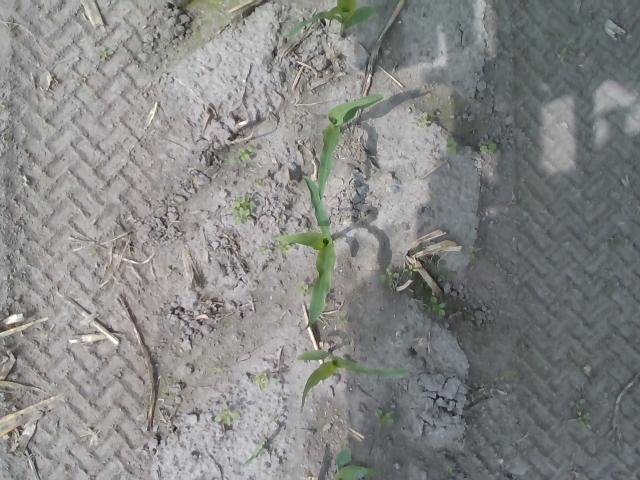Maize: (271, 173, 337, 329), (296, 348, 411, 412), (317, 94, 384, 200), (286, 0, 376, 40), (334, 446, 374, 480)
Weeds: (568, 396, 593, 430), (222, 143, 256, 165), (232, 194, 258, 222), (214, 404, 241, 426), (377, 408, 398, 428), (428, 296, 446, 318), (384, 270, 400, 286), (479, 141, 496, 154), (403, 263, 417, 277), (419, 111, 430, 128), (446, 136, 456, 154), (297, 283, 312, 294), (95, 46, 108, 57), (256, 244, 270, 254), (252, 447, 266, 456), (337, 316, 348, 326), (280, 242, 290, 252), (467, 247, 476, 257)
